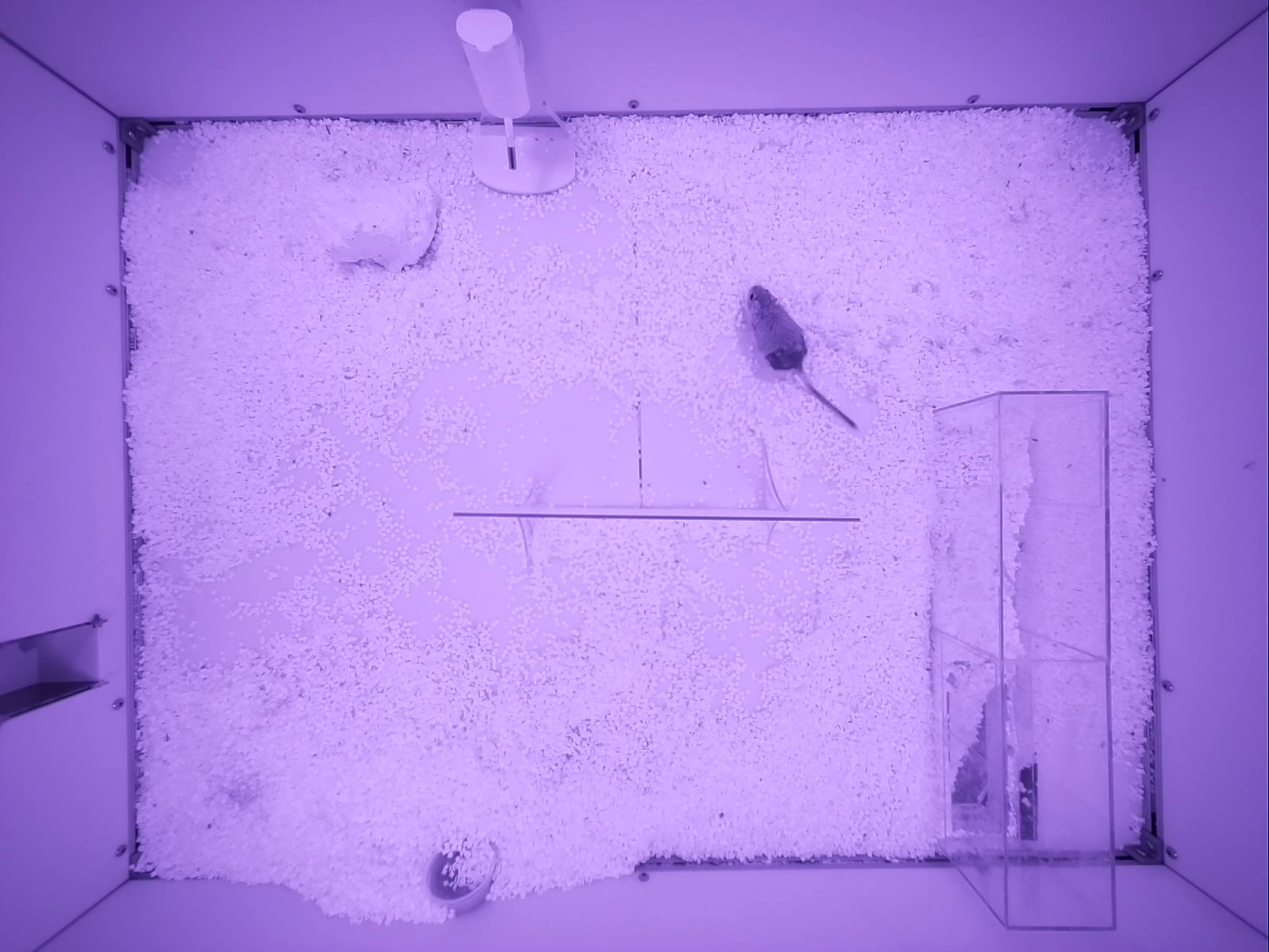adult_back: (745, 285, 856, 428)
